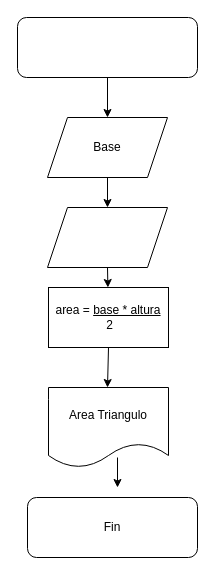
The diagram is 215 pixels wide and 575 high, and some of its shapes have lost their labels. Here are the shapes that lost their labels. From the top down, the centre of each, then its label:
At (107,47): "Inicio".
At (107,237): "Altura".
